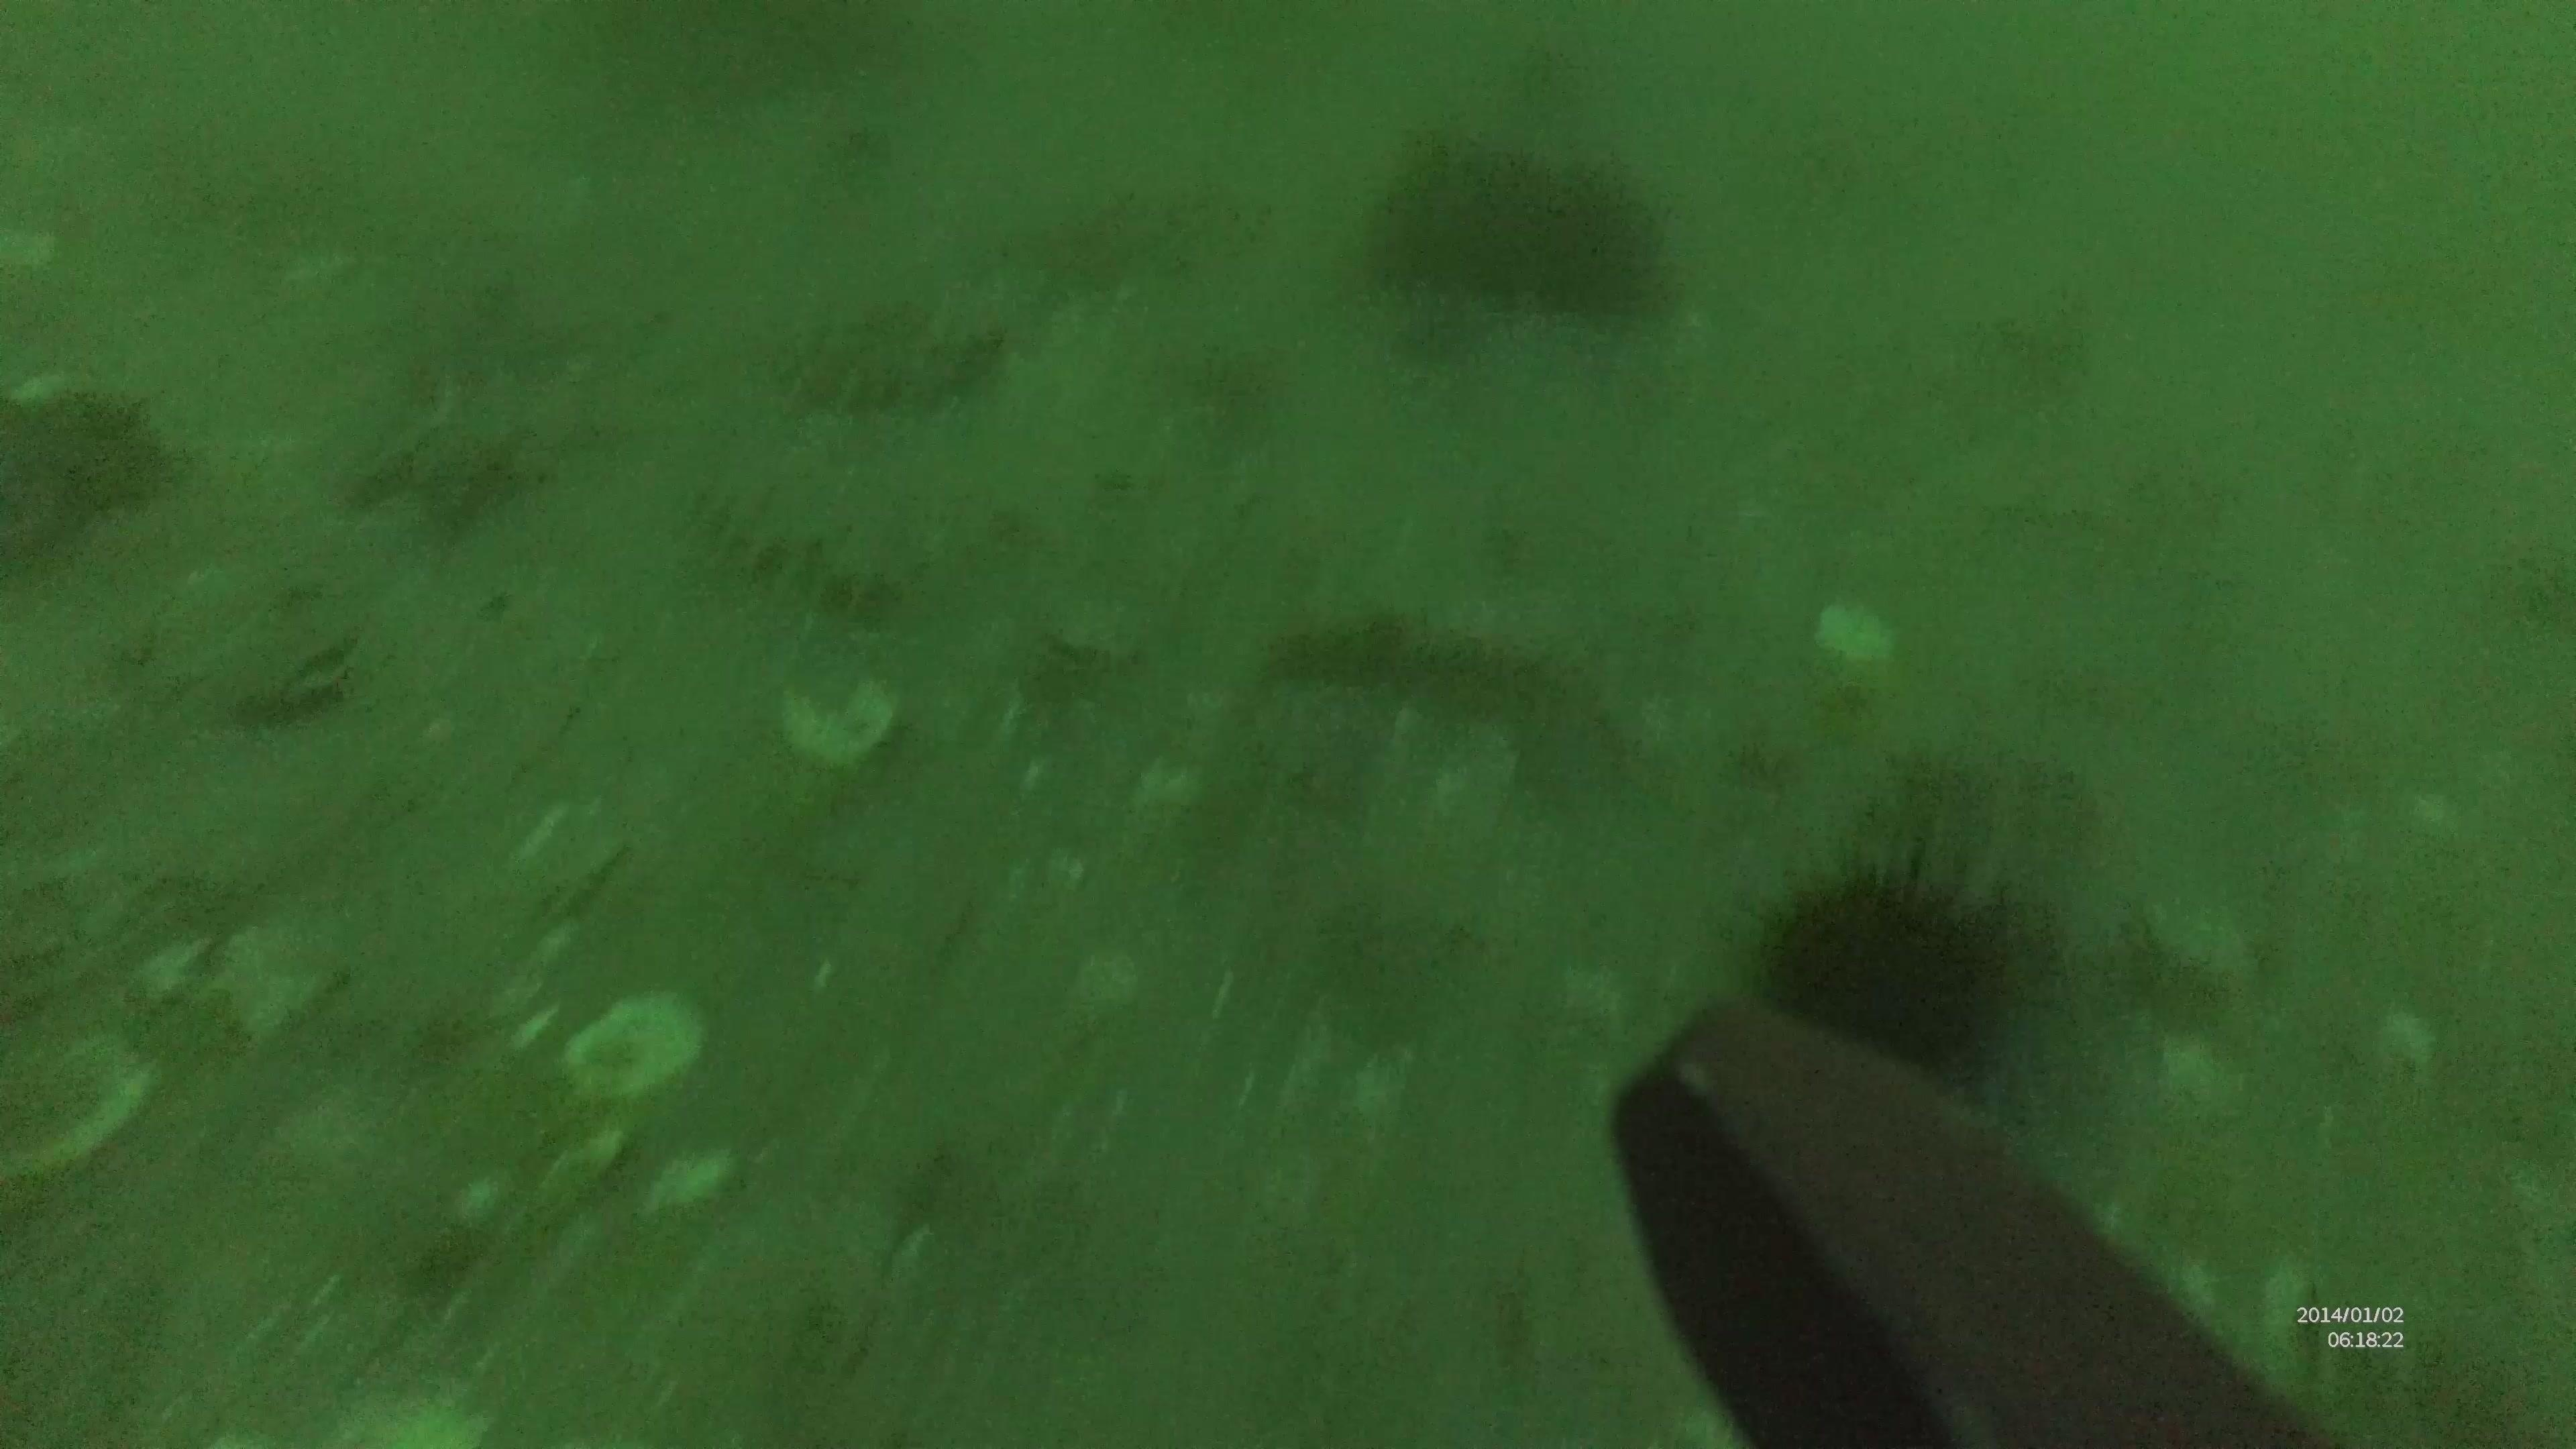echinus: (1752, 840, 2036, 1083)
holothurian: (697, 464, 909, 625), (777, 301, 1012, 421)
